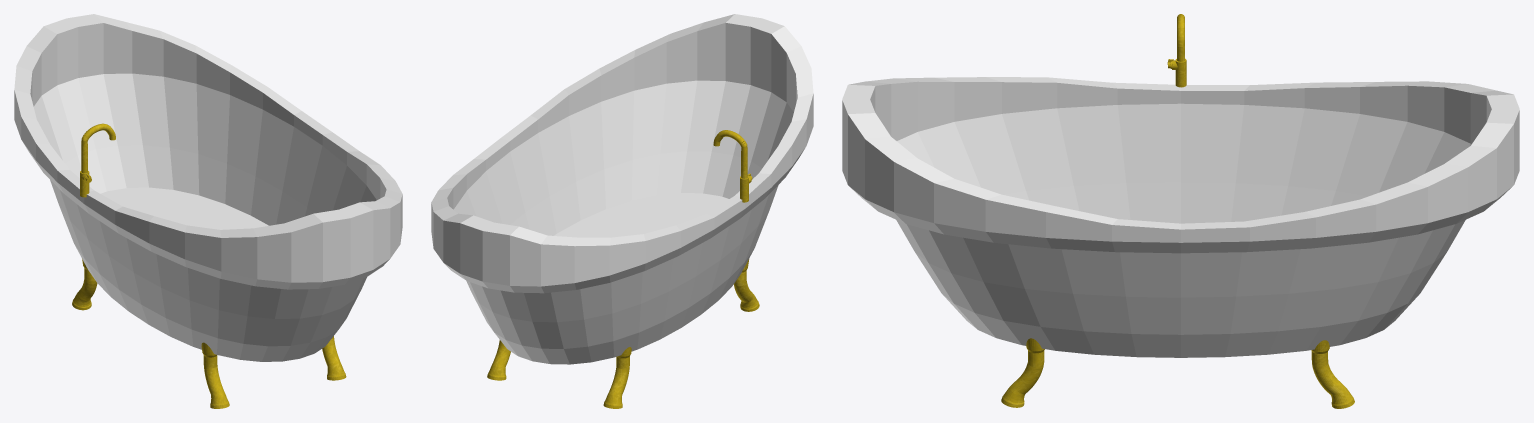
The model's file is Badewanne.fbx.
3 views of the same model, side by side, from view 1: azimuth 30°, elevation 25°; view 2: azimuth 150°, elevation 25°; view 3: azimuth 270°, elevation 25° (orthographic). The views are drawn at different scales.
Parts seen in each view (by area): view 1: Plane; view 2: Plane; view 3: Plane.
Boxes of the visible parts, x1,y1,x2,y2 form: Plane: (14, 14, 402, 408); Plane: (431, 14, 813, 408); Plane: (842, 14, 1519, 408).
Size of the model in its own units: 129 by 119 by 252.
